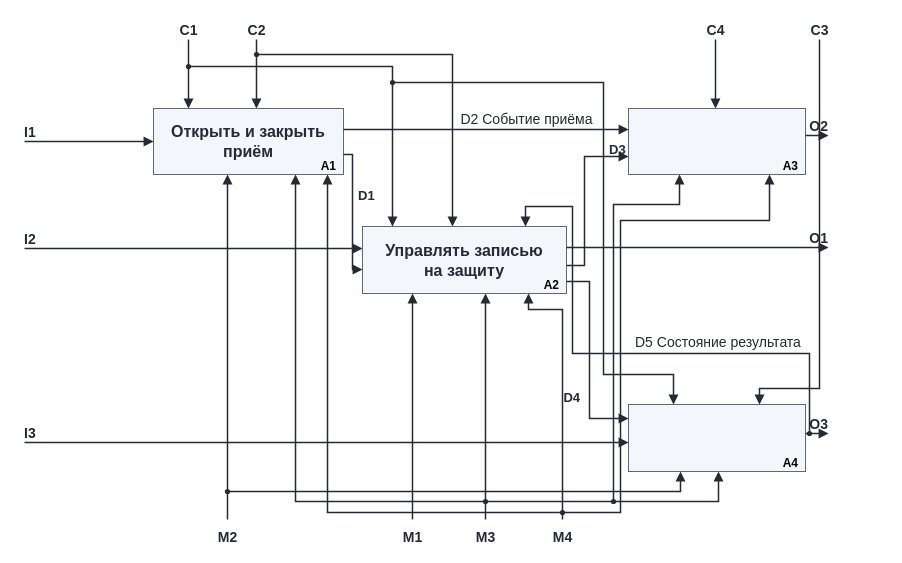
Some shapes in this 902 by 563 pixel diagram are drawn without their labels. Each missing label, with the box of its shape:
Зафиксировать результат защиты: (628, 404, 806, 472)
Уведомить участников: (628, 108, 806, 174)
